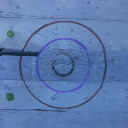Axe Tip: (0, 48, 3, 52)
